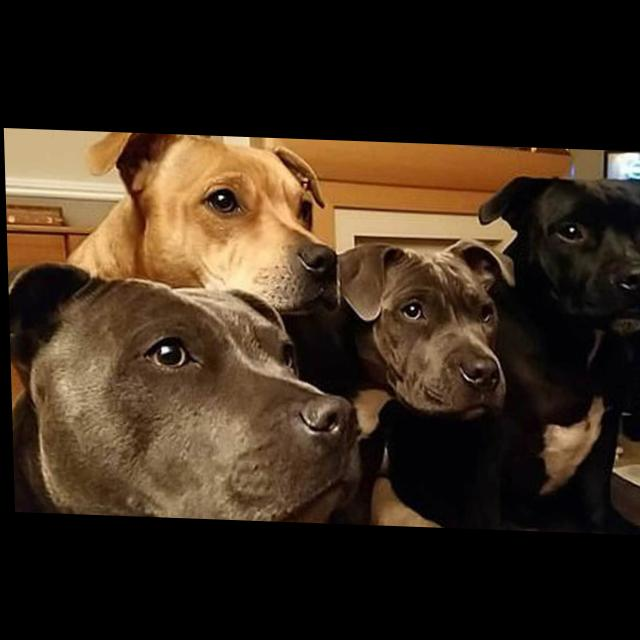am_pit_bull_terrier: (379, 166, 640, 531), (7, 260, 363, 523), (289, 229, 520, 528), (57, 131, 341, 317)
